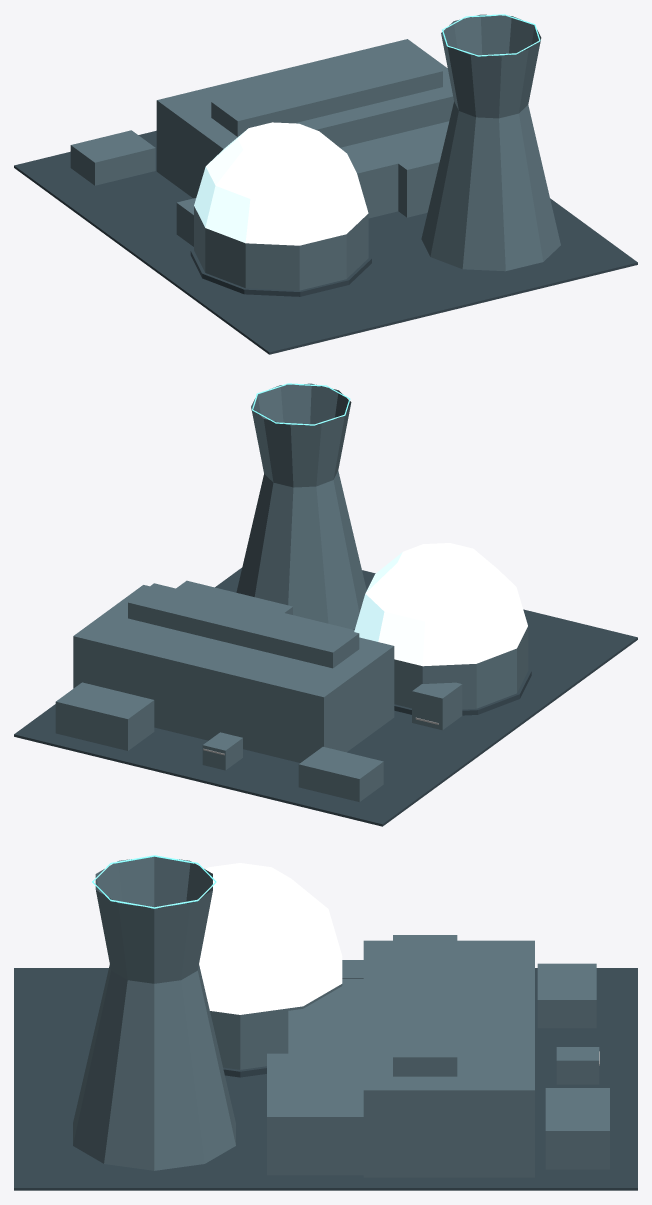
Rendered from nuclear_smr_module.lod2.glb.
3 views of the same model, one above another, from view 1: azimuth 30°, elevation 25°; view 2: azimuth 150°, elevation 25°; view 3: azimuth 270°, elevation 25° (orthographic). The views are drawn at different scales.
Visible parts, largest first — view 1: nuclear_smr_module_graphite_light.002, nuclear_smr_module_graphite.002, nuclear_smr_module_white.002; view 2: nuclear_smr_module_graphite_light.002, nuclear_smr_module_graphite.002, nuclear_smr_module_white.002; view 3: nuclear_smr_module_graphite_light.002, nuclear_smr_module_graphite.002, nuclear_smr_module_white.002, nuclear_smr_module_edge.002.
Boxes of the visible parts, box(x1,y1,x2,y2) form: nuclear_smr_module_graphite_light.002: box(70, 14, 560, 290); nuclear_smr_module_graphite.002: box(14, 130, 637, 354); nuclear_smr_module_white.002: box(194, 122, 368, 245); nuclear_smr_module_graphite_light.002: box(55, 383, 528, 801); nuclear_smr_module_graphite.002: box(14, 567, 637, 826); nuclear_smr_module_white.002: box(354, 543, 527, 666); nuclear_smr_module_graphite_light.002: box(73, 856, 609, 1177); nuclear_smr_module_graphite.002: box(14, 968, 637, 1190); nuclear_smr_module_white.002: box(199, 863, 342, 1014); nuclear_smr_module_edge.002: box(92, 855, 216, 908).
Bounding box in the file's own units: 97 × 52.76 × 116.
